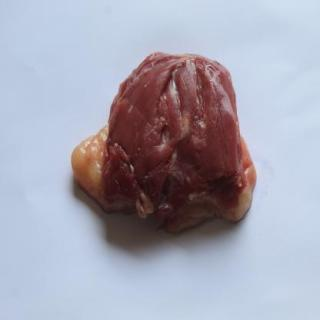Daging Sapi: (73, 52, 258, 239)
